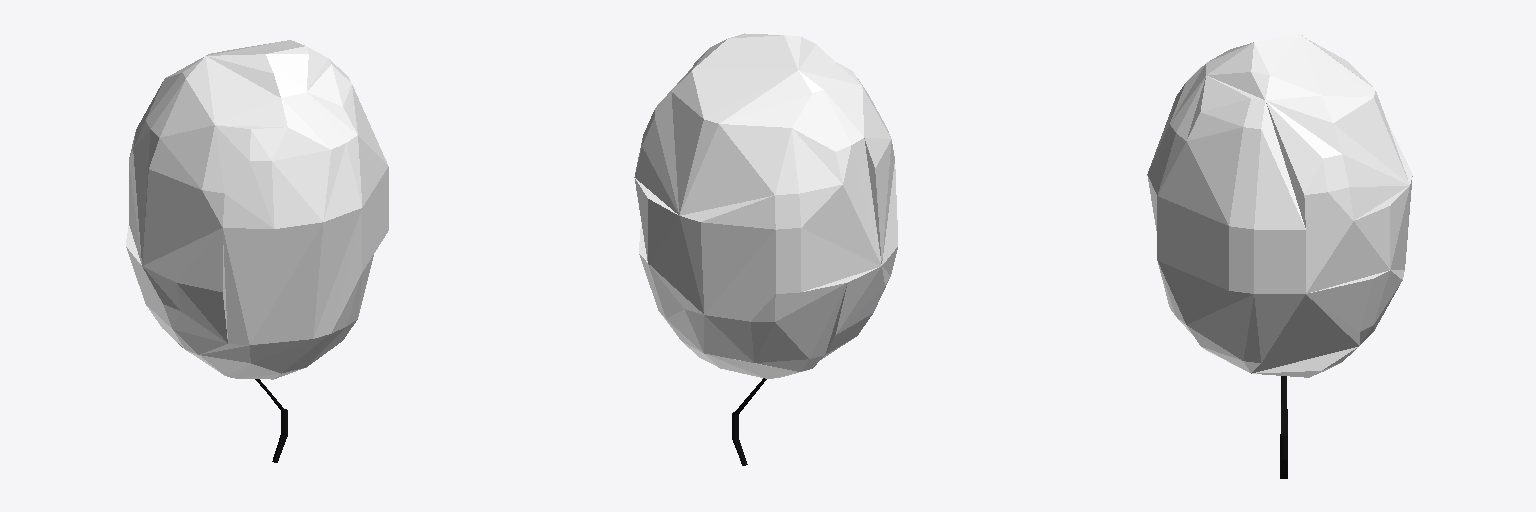
The picture shows the model from 3 angles: view 1: azimuth 30°, elevation 25°; view 2: azimuth 150°, elevation 25°; view 3: azimuth 270°, elevation 25°; orthographic projection.
Visible parts, largest first — view 1: balloon; view 2: balloon; view 3: balloon.
Part boxes in pixels (x1,y1,x2,y2): balloon: (126,40,388,462); balloon: (634,33,897,465); balloon: (1147,34,1412,478).
Bounding box in the file's own units: 1.1 × 1.96 × 1.11.
1 materials, 1 textured.